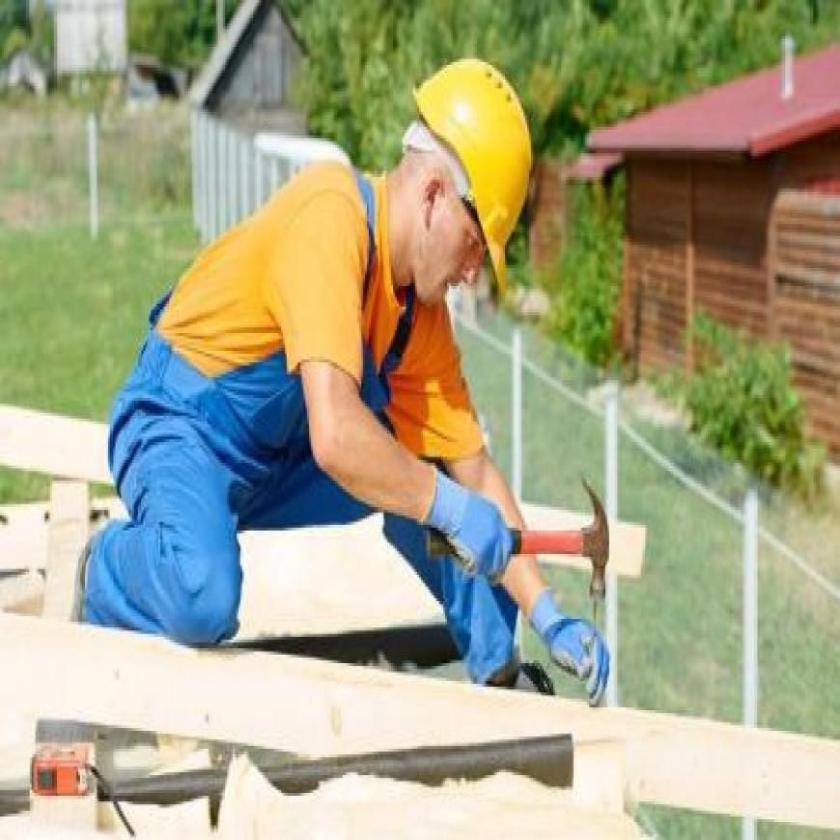Con_casco: (386, 46, 538, 336)
